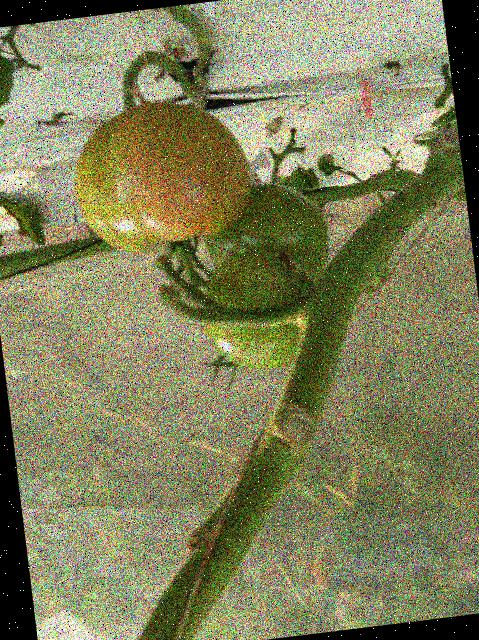b_green: (192, 243, 326, 376), (196, 174, 334, 295)
b_half_ripened: (65, 91, 258, 258)
